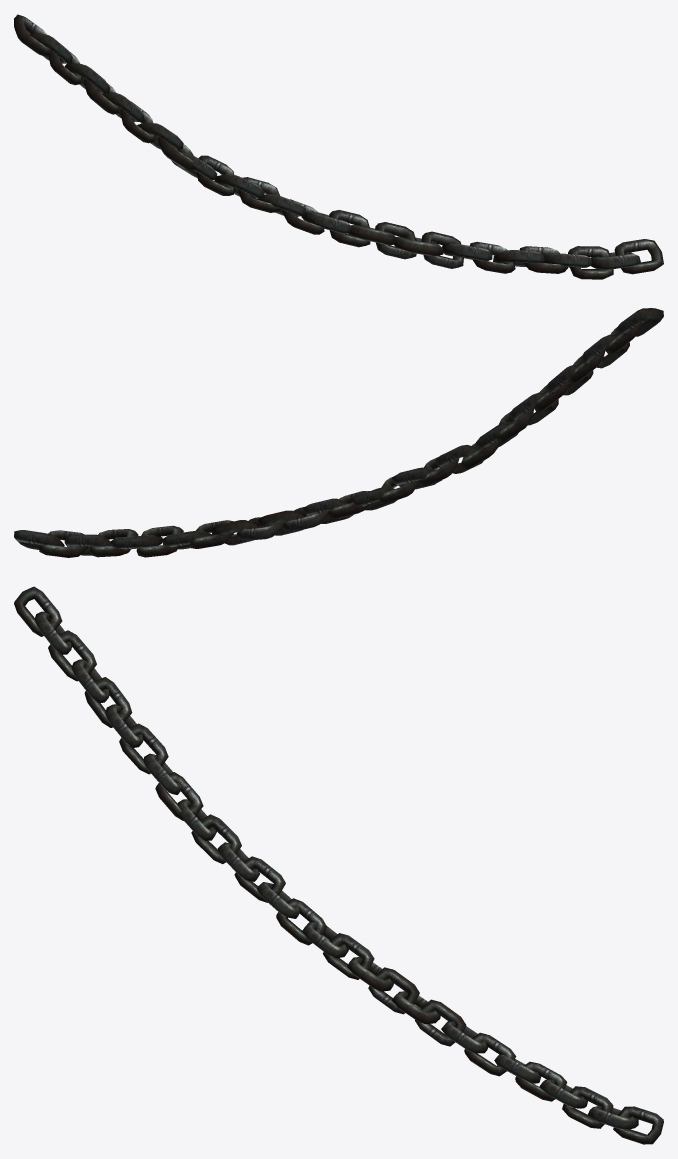
The model's file is S2_Build_XSC120.FBX.
3 renders of one model, top to bottom at view 1: azimuth 30°, elevation 25°; view 2: azimuth 150°, elevation 25°; view 3: azimuth 330°, elevation 25°, orthographic.
Visible parts, largest first — view 1: S2_Build_XSC120; view 2: S2_Build_XSC120; view 3: S2_Build_XSC120.
Boxes of the visible parts, bbox=[...] form: S2_Build_XSC120: bbox=[14, 14, 663, 279]; S2_Build_XSC120: bbox=[14, 308, 663, 557]; S2_Build_XSC120: bbox=[14, 586, 663, 1144].
Bounding box in the file's own units: 13954 × 8251 × 768.
